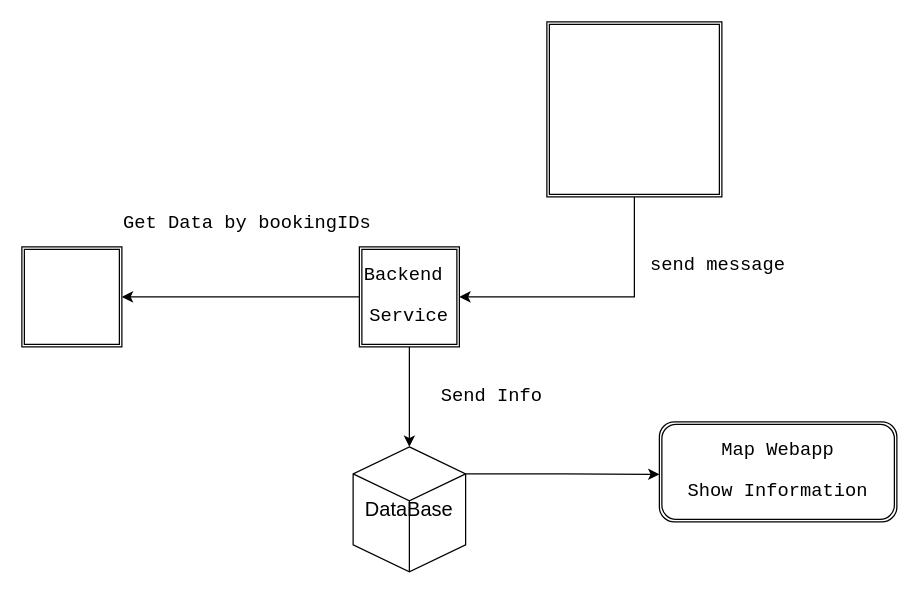
The diagram is 919 pixels wide and 594 high, and some of its shapes have lost their labels. The centre of each missing label's shape, as x and y in pixels:
"Gemini Sevice" belongs at (x=71, y=296).
"Ship Position Event Listen" belongs at (x=634, y=109).
